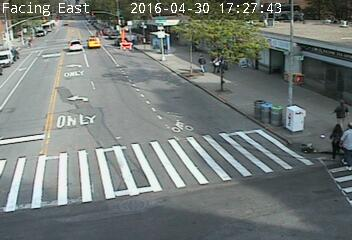neg: (198, 166, 218, 192), (291, 198, 308, 222), (140, 17, 157, 40), (94, 178, 111, 201), (20, 131, 36, 152), (89, 32, 103, 50), (252, 100, 265, 117), (25, 98, 38, 114), (195, 137, 207, 152), (68, 34, 79, 49), (135, 89, 145, 103), (249, 5, 259, 18)
pos: (321, 122, 351, 162), (329, 122, 351, 171), (331, 100, 351, 128), (209, 51, 225, 72), (196, 54, 211, 73), (25, 36, 33, 47)
